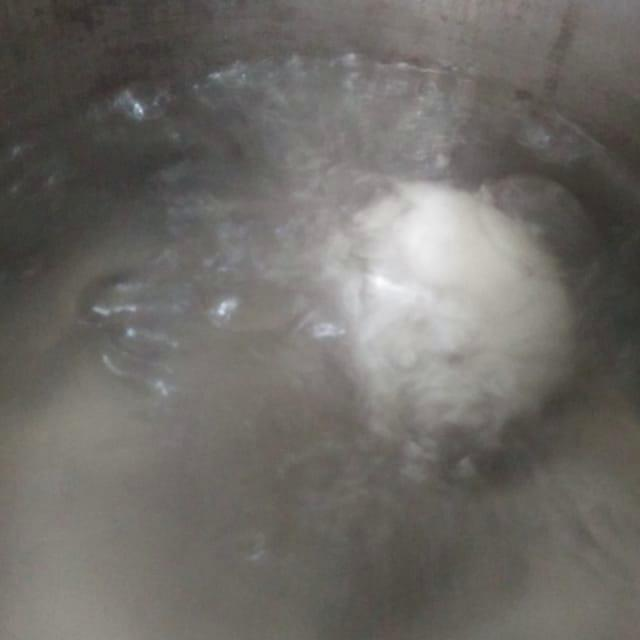egg: (362, 166, 576, 423)
